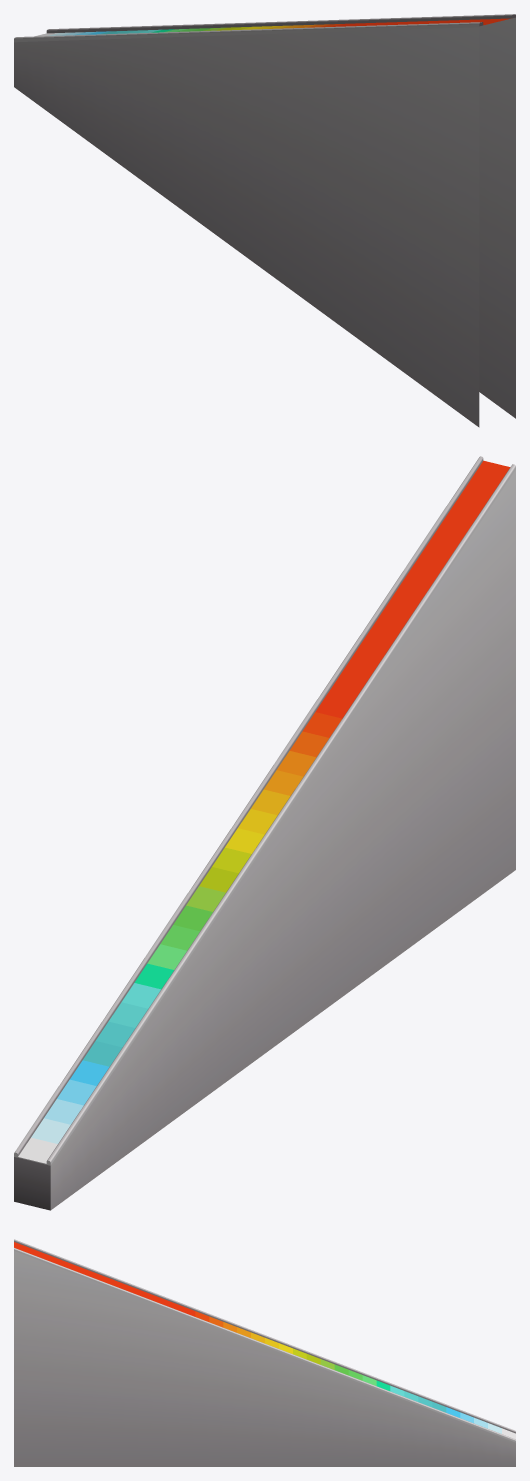
The model's file is mathparkour_finalplatform.fbx.
3 views of the same model, one above another, from view 1: azimuth 30°, elevation 25°; view 2: azimuth 150°, elevation 25°; view 3: azimuth 270°, elevation 25° (orthographic). The views are drawn at different scales.
Parts seen in each view (by area): view 1: mathparkour_platform_final; view 2: mathparkour_platform_final; view 3: mathparkour_platform_final.
Boxes of the visible parts, x1=… form: mathparkour_platform_final: x1=14, y1=14, x2=515, y2=427; mathparkour_platform_final: x1=14, y1=456, x2=515, y2=1210; mathparkour_platform_final: x1=14, y1=1239, x2=515, y2=1466.
Size of the model in its own units: 12.71 by 134 by 280.
